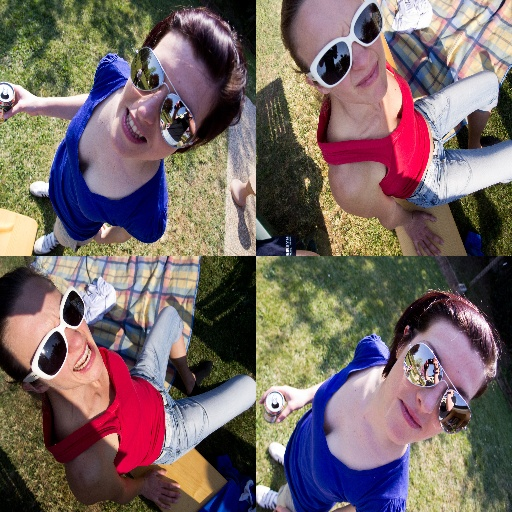hand: (4, 63, 57, 115), (257, 384, 306, 425), (404, 208, 444, 257), (141, 465, 182, 511), (93, 222, 106, 243), (272, 503, 291, 511)
